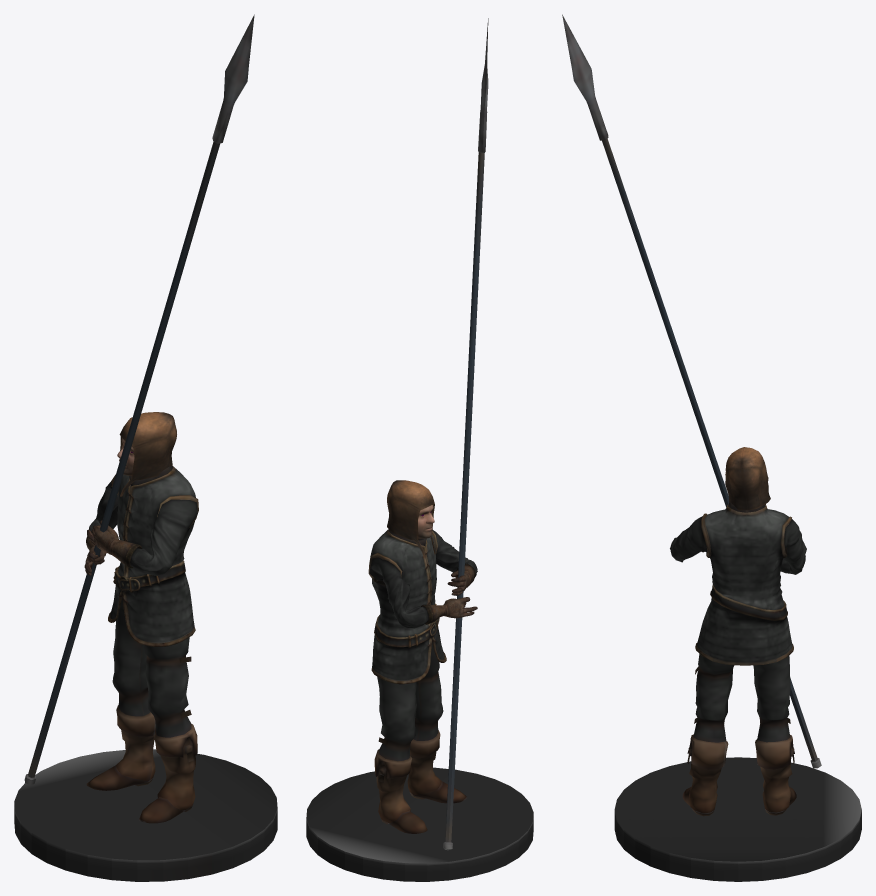
3 views of the same model, side by side, from view 1: azimuth 30°, elevation 25°; view 2: azimuth 150°, elevation 25°; view 3: azimuth 270°, elevation 25° (orthographic). The views are drawn at different scales.
Parts seen in each view (by area): view 1: male_01_gatekeeper_light_body.smd; view 2: male_01_gatekeeper_light_body.smd; view 3: male_01_gatekeeper_light_body.smd.
Part boxes in pixels (box(x1,y1,x2,y2)): male_01_gatekeeper_light_body.smd: box(14, 14, 277, 881); male_01_gatekeeper_light_body.smd: box(306, 18, 533, 881); male_01_gatekeeper_light_body.smd: box(562, 14, 861, 881).
Bounding box in the file's own units: 1 × 3.67 × 1.21.
1 material, 1 textured.
